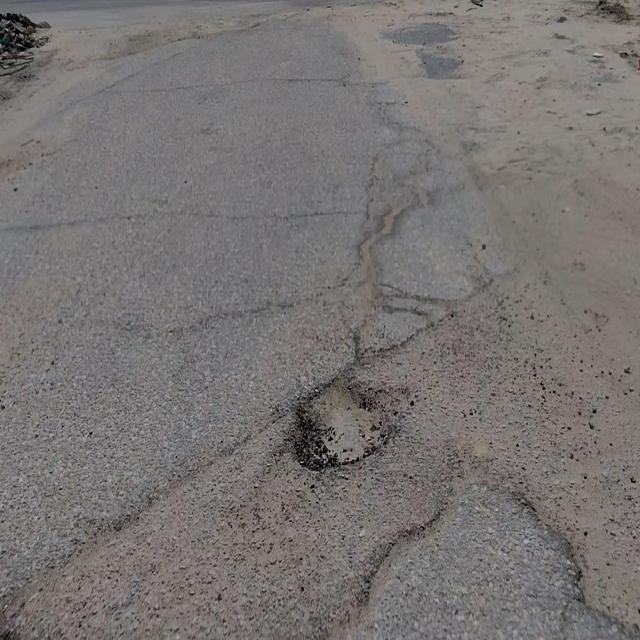Potholes: (290, 366, 414, 477)
